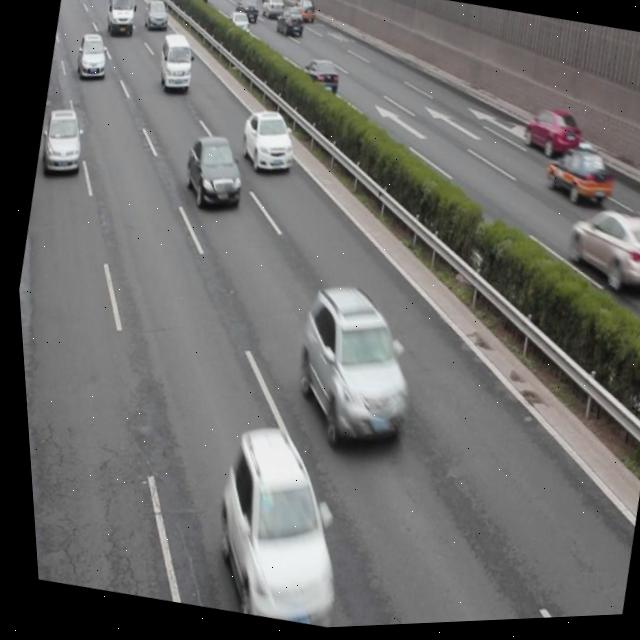car: (190, 417, 357, 634), (275, 278, 425, 460), (553, 202, 640, 306), (174, 129, 250, 219), (535, 144, 616, 217), (230, 104, 300, 183), (32, 104, 89, 183), (514, 106, 583, 167), (70, 29, 114, 87), (293, 56, 343, 105)
truck: (150, 29, 200, 96)
